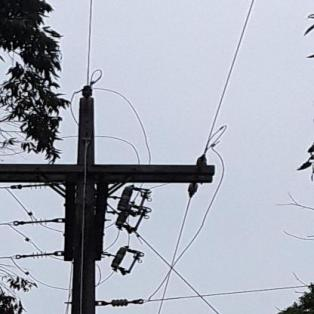Poste: (58, 80, 108, 314)
